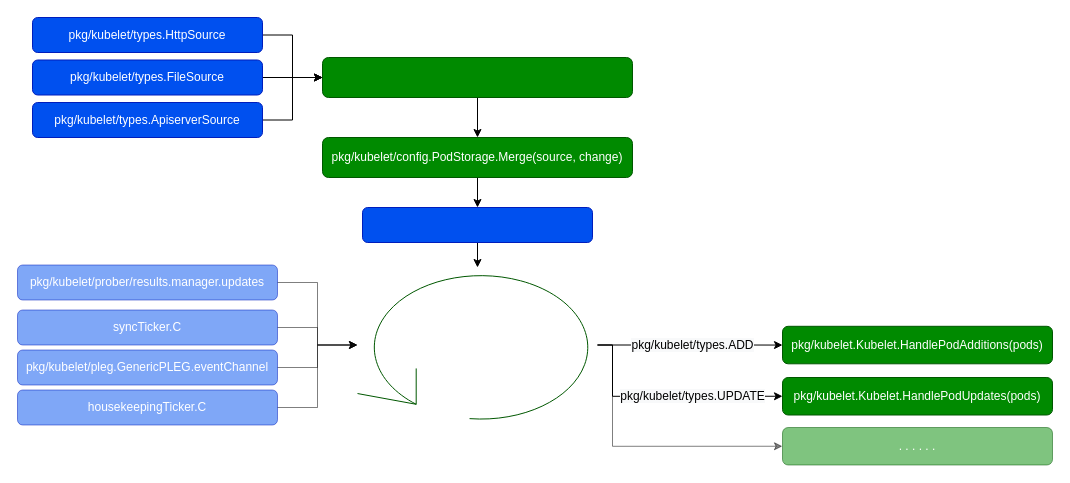
This 1070x483 diagram has some shape labels left out. Each missing label, with the box of its shape:
pkg/kubelet.Kubelet.syncLoopIteration: (356, 266, 598, 422)
pkg/kubelet/config.PodConfig.updates: (362, 206, 592, 242)
pkg/util/config.Mux.listen(source, listenChannel): (322, 56, 632, 98)
